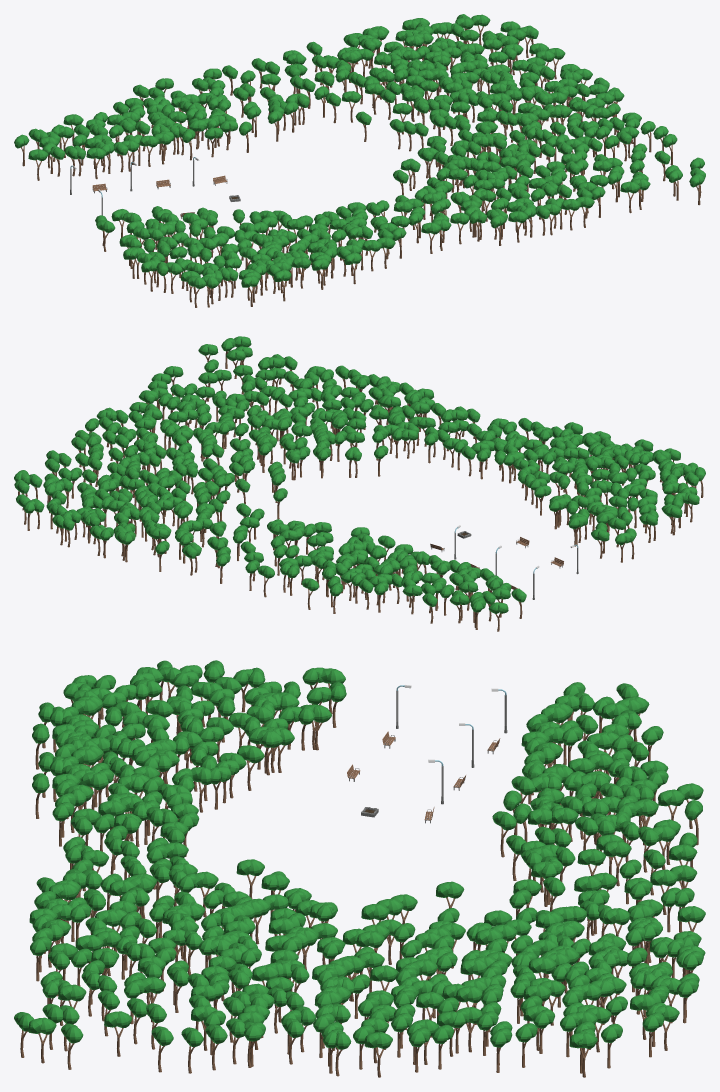
The model's file is environment.gltf.
3 renders of one model, top to bottom at view 1: azimuth 30°, elevation 25°; view 2: azimuth 150°, elevation 25°; view 3: azimuth 270°, elevation 25°, orthographic. The views are drawn at different scales.
Bounding box in the file's own units: 0.7123 × 0.0383 × 0.5472.
1 material, 1 textured.
